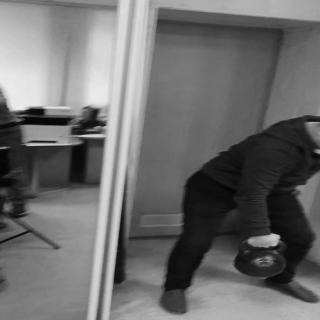kettlebell: (232, 236, 289, 277)
